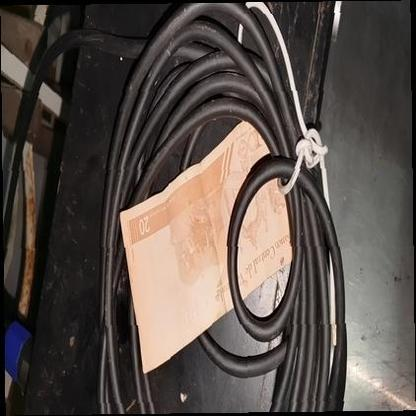twenty-back-vef: (118, 120, 292, 373)
